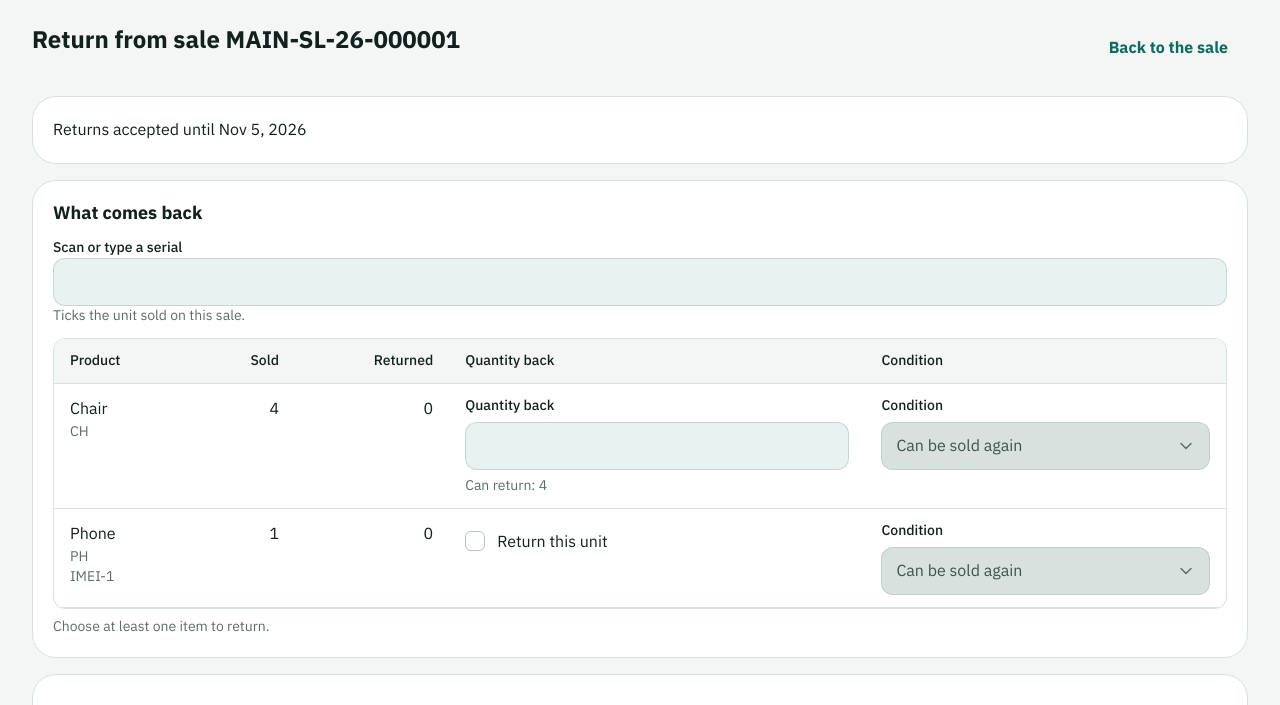
Test: S05 return page › a scanned serial ticks its unit; another serial is refused
Type "IMEI-9" into the field labelled "Scan or type a serial".
click(640, 282); type("IMEI-9")  # box [53, 258, 1227, 306]
Then press Enter
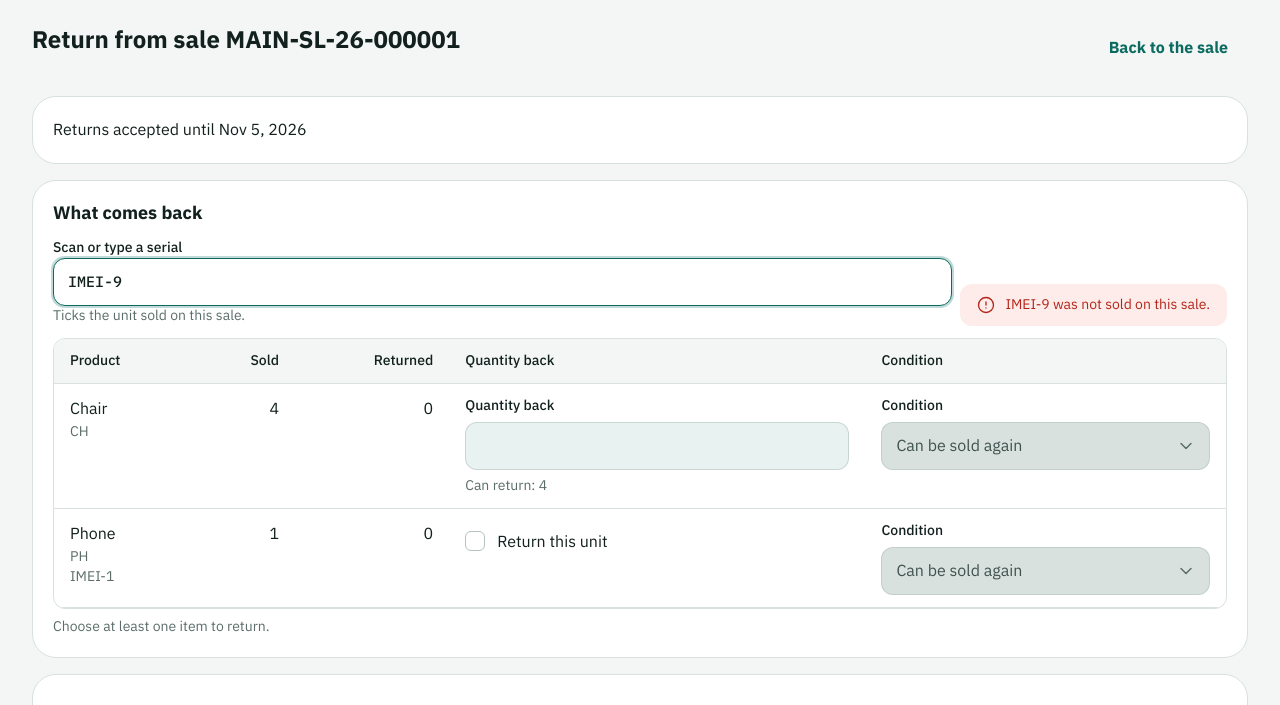
Replace the text in the field labelled "Scan or type a serial" with "imei-1" at (503, 282), box [53, 258, 952, 306]
Then press Enter
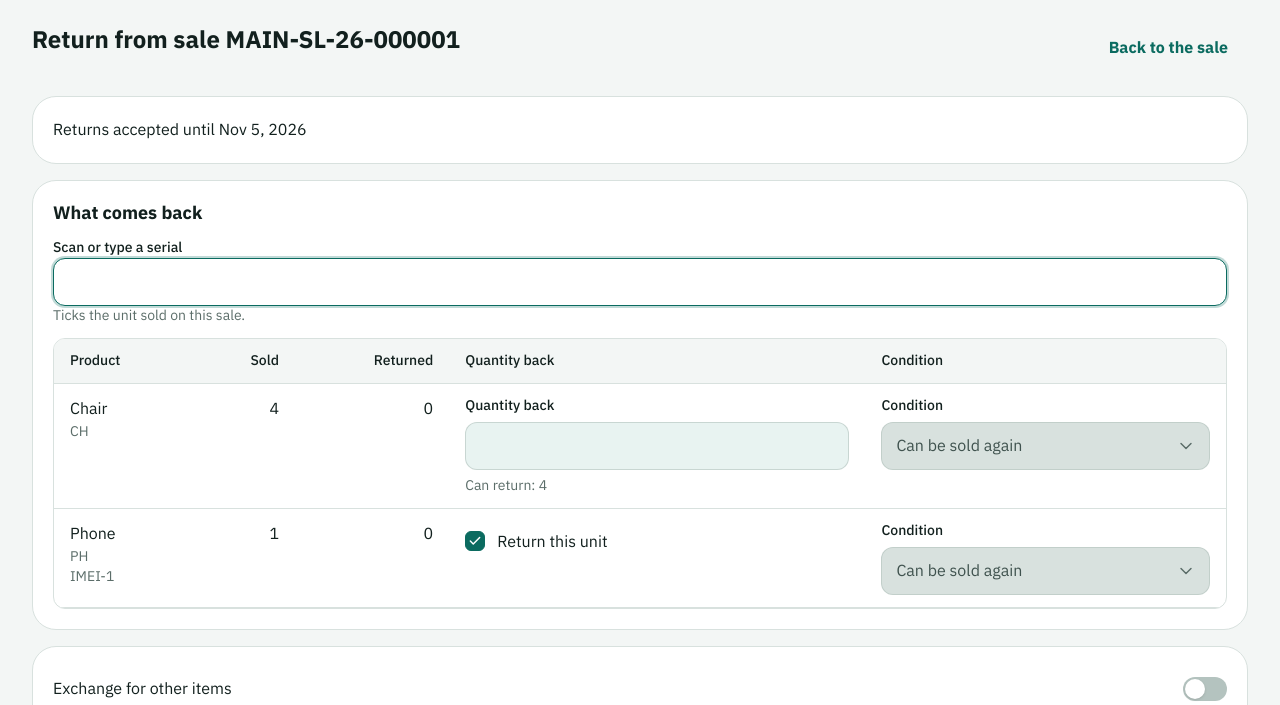
Check: the checkbox labelled "Return this unit" is checked, box [465, 530, 608, 554]
